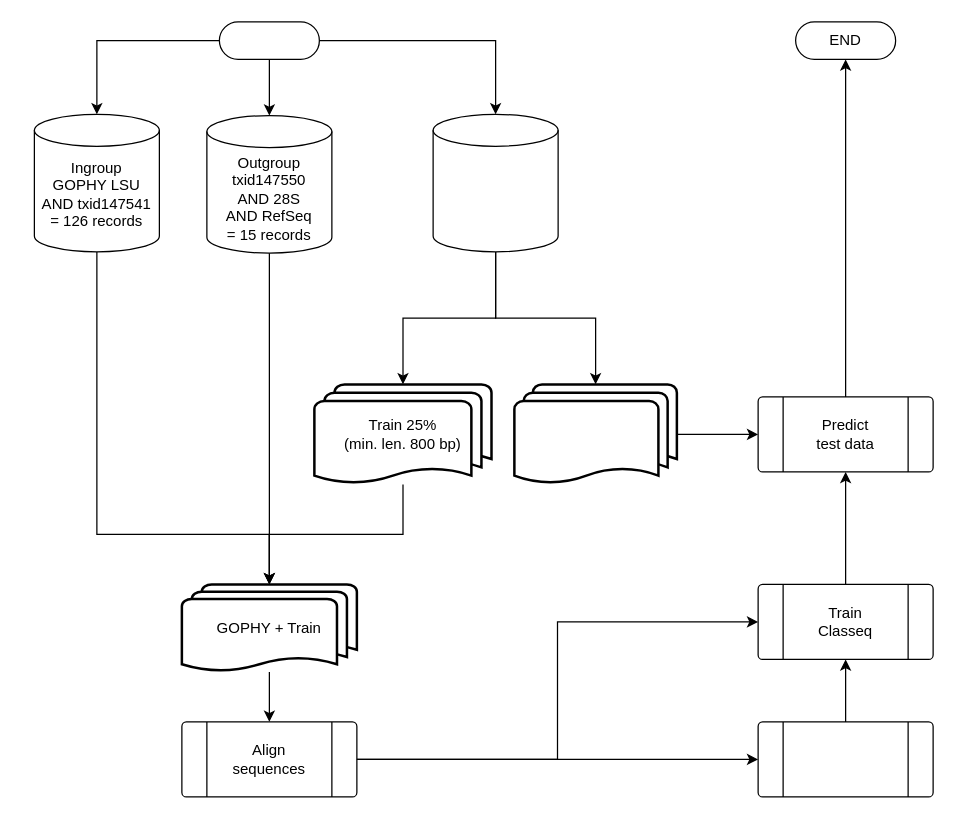
Some shapes in this 955 by 819 pixel diagram are drawn without their labels. The box of each missing label's shape, as (x1, y1, x2, y2) in pixels:
Generage phylogeny: (757, 721, 933, 797)
Ingroup txid147541 AND 28S AND RefSeq = 4352 records: (432, 113, 558, 252)
START: (218, 21, 319, 59)
Test 75%: (512, 382, 678, 485)
